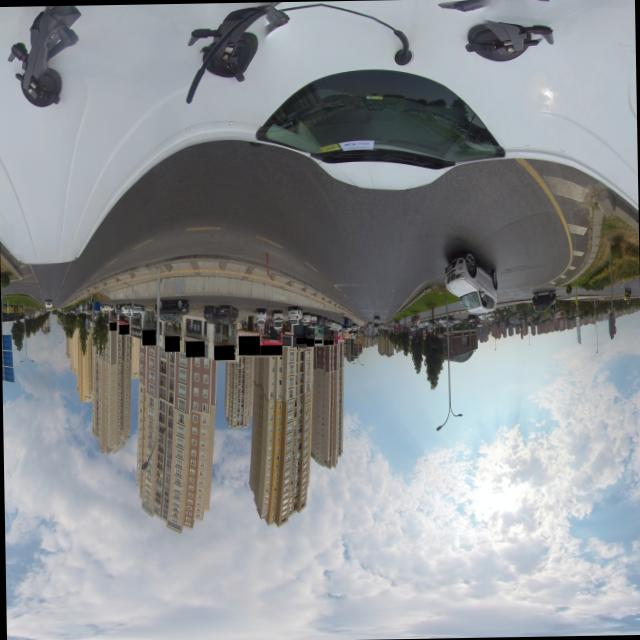SignStore: (237, 335, 258, 354), (184, 340, 203, 356), (213, 344, 233, 358), (163, 335, 178, 350), (259, 344, 281, 354), (141, 329, 155, 344), (117, 324, 128, 333), (305, 337, 313, 345), (295, 336, 305, 342), (108, 321, 115, 329), (322, 339, 327, 344), (313, 339, 321, 342), (327, 339, 332, 343)
